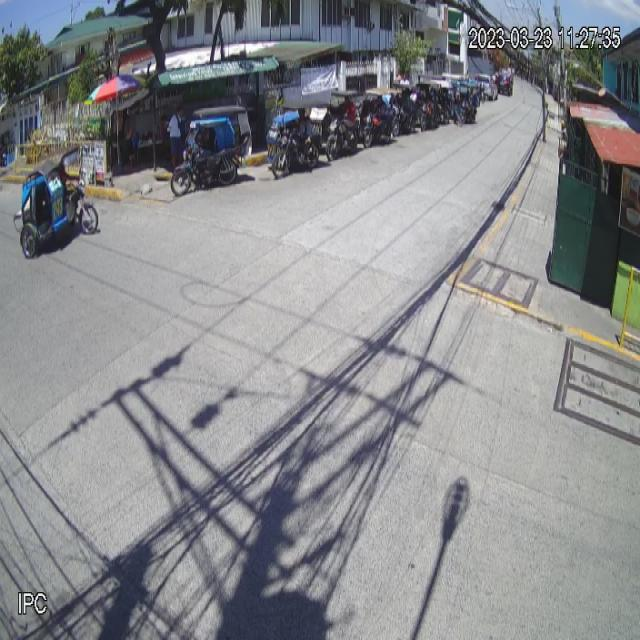Tricycle: (13, 144, 99, 260)
